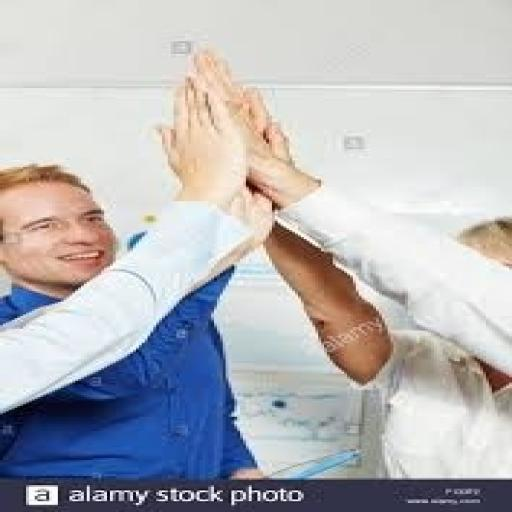clapping: (0, 46, 278, 482)
